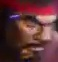ryu: (9, 0, 57, 61)
